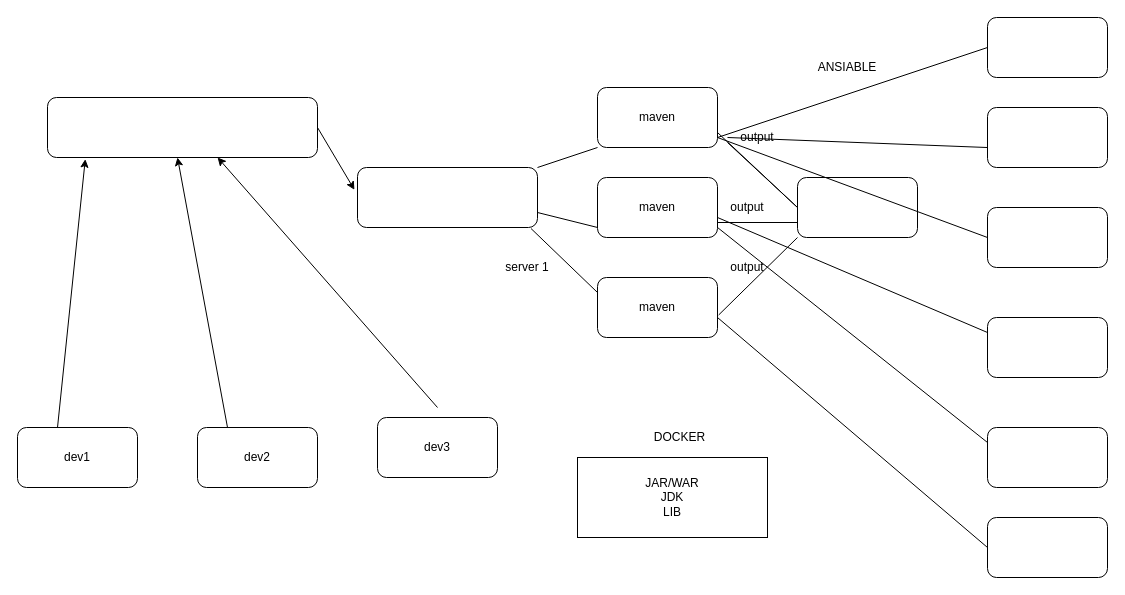
The diagram is 1125 pixels wide and 595 high, and some of its shapes have lost their labels. The shapes that lost their labels are listed below. From the top down, each one's centre as x and y in pixels, then its label:
the point at 182,127: GITHUB/REPO
the point at 447,197: JENKINS GITHUB URL
the point at 857,207: JAR/WAR
